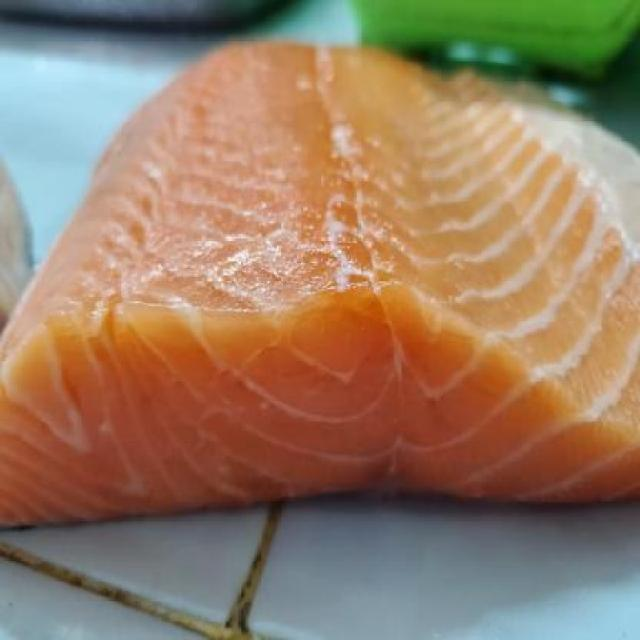salmon: (0, 26, 639, 524)
